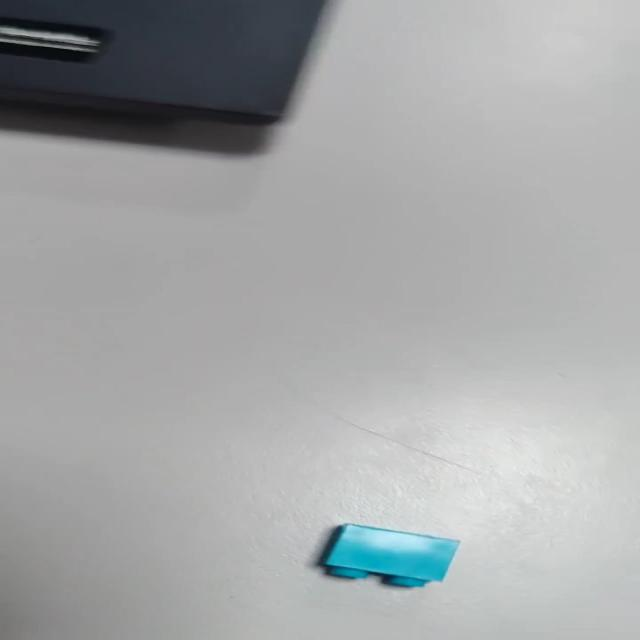C2x1x1: (313, 519, 469, 589)
